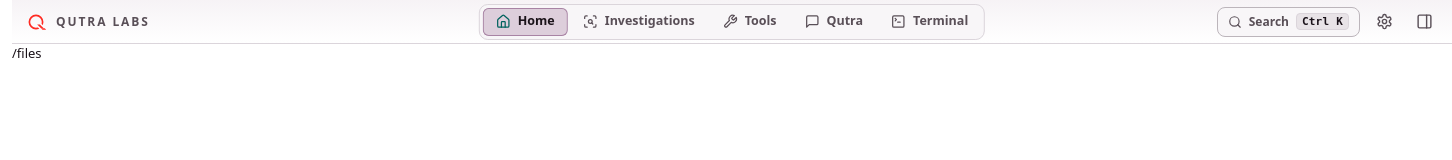
TopBar › clicking Home opens /overview
Step 1. Click the button "Home" → x=525, y=22, box 483,8 -> 568,36
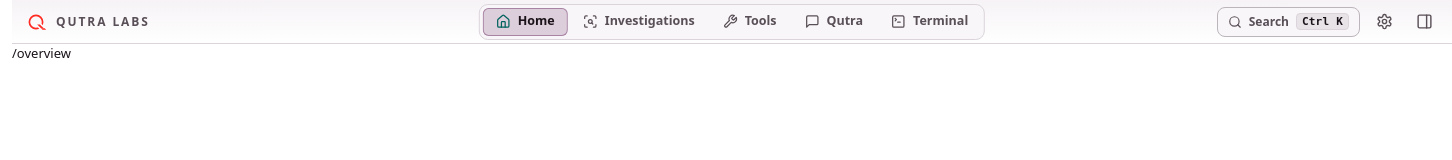
Expected: the text with test id "where" reads "/overview", 12,44 -> 71,62
